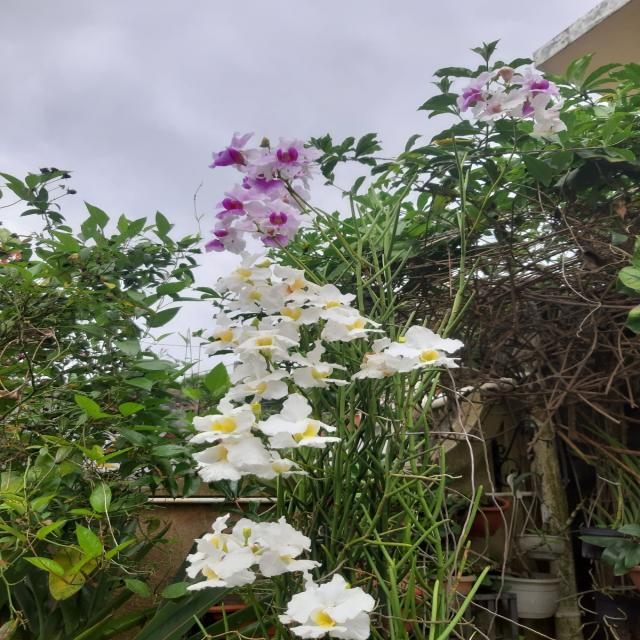flower: (279, 574, 374, 640), (186, 515, 257, 579), (259, 393, 338, 449), (193, 432, 274, 481), (239, 140, 323, 183), (385, 326, 463, 372), (225, 350, 290, 402), (231, 517, 309, 558), (190, 398, 255, 444), (236, 197, 303, 240), (234, 320, 300, 360), (204, 210, 256, 253), (229, 279, 291, 312), (205, 312, 251, 355), (217, 259, 271, 292), (317, 284, 354, 307)
leaf: (136, 587, 232, 639), (76, 522, 103, 561)
root: (473, 605, 552, 639)
